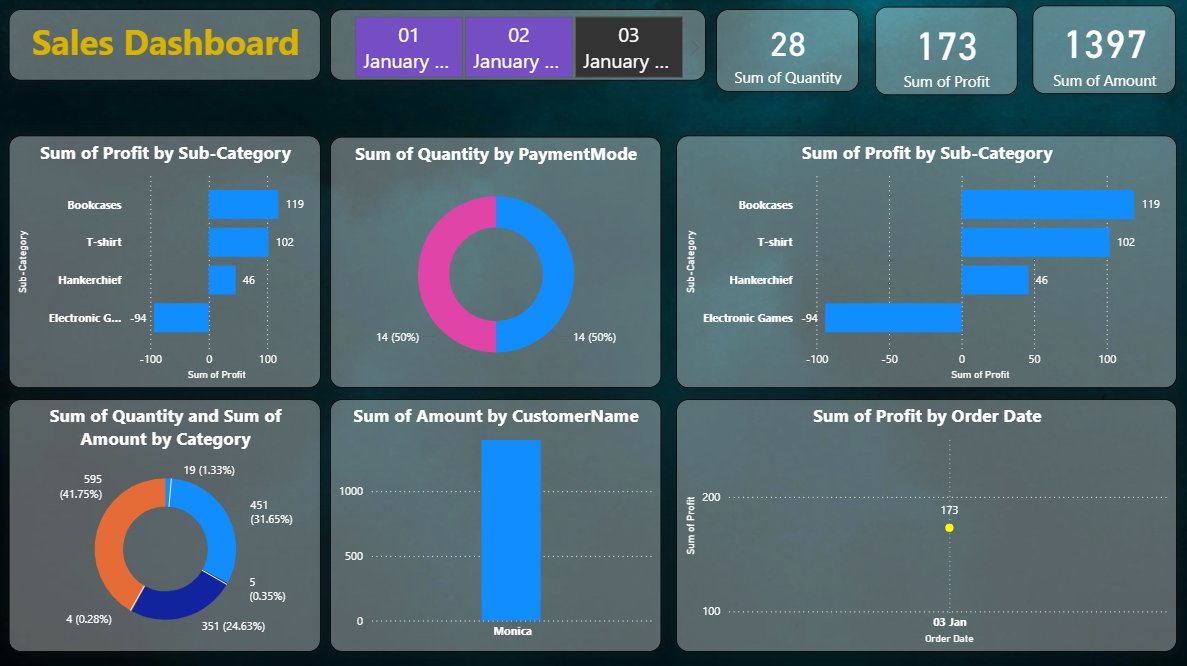

The page's visual inventory and layout, read from the dashboard file:
{"tool":"powerbi","page":{"name":"Page 1","canvas":[1280,720],"ordinal":0},"visuals":[{"type":"textbox","box":[9.4,12.1,336.3,76.7],"z":0},{"type":"lineChart","fields":{"Category":["Orders.Order Date.Variation.Date Hierarchy.Month"],"Y":["Sum(Details.Profit)"]},"box":[727.7,431.8,539.4,271.7],"z":1000},{"type":"barChart","fields":{"Y":["Sum(Details.Profit)"],"Category":["Details.Sub-Category"]},"box":[727.7,148,539.4,271.7],"z":2000},{"type":"donutChart","fields":{"Y":["Sum(Details.Quantity)","Sum(Details.Amount)"],"Category":["Details.Category"]},"box":[9.4,431.8,336.3,271.7],"z":3000},{"type":"donutChart","fields":{"Y":["Sum(Details.Quantity)"],"Category":["Details.PaymentMode"]},"box":[355.1,149.3,356.5,270.4],"z":4000},{"type":"card","fields":{"Values":["Sum(Details.Amount)"]},"box":[1112.4,8.1,154.7,95.5],"z":5000},{"type":"card","fields":{"Values":["Sum(Details.Profit)"]},"box":[942.9,9.4,153.3,95.5],"z":6000},{"type":"card","fields":{"Values":["Sum(Details.Quantity)"]},"box":[770.7,12.1,153.3,88.8],"z":7000},{"type":"barChart","fields":{"Y":["Sum(Details.Profit)"],"Category":["Details.Sub-Category"]},"box":[9.4,148,336.3,271.7],"z":8000},{"type":"lineStackedColumnComboChart","fields":{"Category":["Orders.CustomerName"],"Y":["Sum(Details.Amount)"]},"box":[355.1,431.8,356.5,271.7],"z":9000},{"type":"slicer","fields":{"Values":["Orders.Order Date.Variation.Date Hierarchy.Quarter"]},"box":[355.1,12.1,404.9,76.7],"z":10000}]}

Visuals, with their boxes in screenshot pixels (x1, y1, x2, y2), scaled from the page's 1280x720 canvas onto the 1187x666 screenshot:
textbox: bbox(9, 11, 321, 82)
lineChart - Orders.Order Date.Variation.Date Hierarchy.Month x Sum(Details.Profit): bbox(675, 399, 1175, 651)
barChart - Sum(Details.Profit) x Details.Sub-Category: bbox(675, 137, 1175, 388)
donutChart - Sum(Details.Quantity) x Sum(Details.Amount): bbox(9, 399, 321, 651)
donutChart - Sum(Details.Quantity) x Details.PaymentMode: bbox(329, 138, 660, 388)
card - Sum(Details.Amount): bbox(1032, 7, 1175, 96)
card - Sum(Details.Profit): bbox(874, 9, 1017, 97)
card - Sum(Details.Quantity): bbox(715, 11, 857, 93)
barChart - Sum(Details.Profit) x Details.Sub-Category: bbox(9, 137, 321, 388)
lineStackedColumnComboChart - Orders.CustomerName x Sum(Details.Amount): bbox(329, 399, 660, 651)
slicer - Orders.Order Date.Variation.Date Hierarchy.Quarter: bbox(329, 11, 705, 82)
